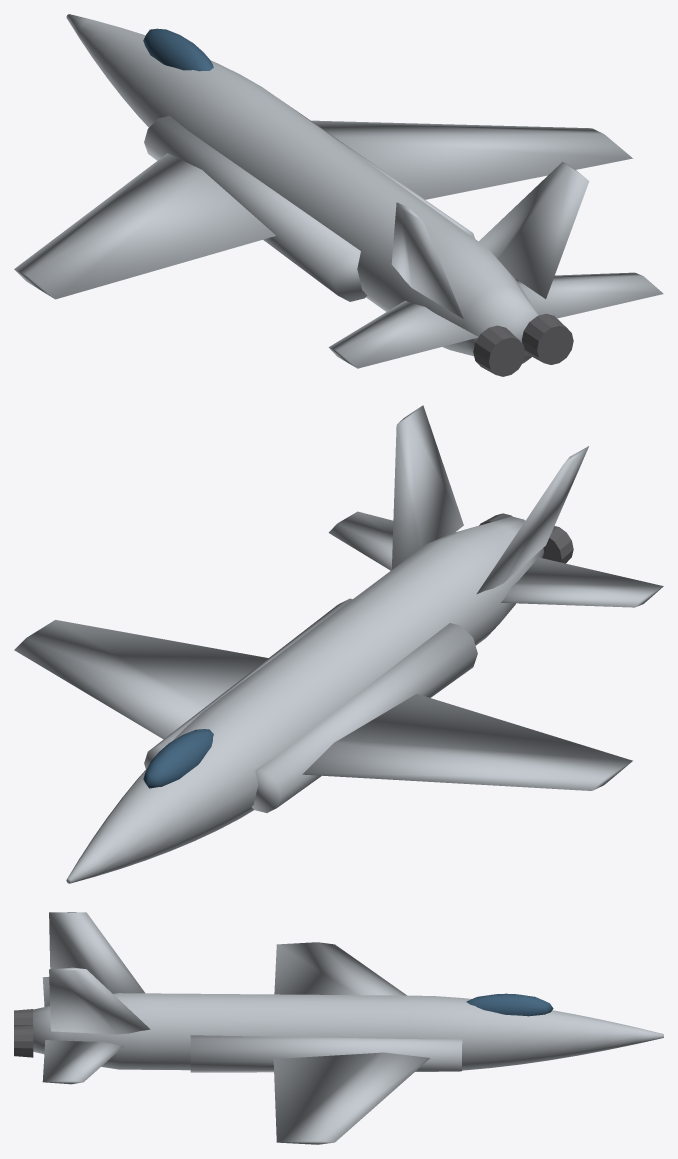
3 renders of one model, top to bottom at view 1: azimuth 30°, elevation 25°; view 2: azimuth 150°, elevation 25°; view 3: azimuth 270°, elevation 25°, orthographic. The views are drawn at different scales.
Visible parts, largest first — view 1: Body, Detail, Canopy; view 2: Body, Canopy, Detail; view 3: Body, Canopy, Detail.
Boxes of the visible parts, box(x1,y1,x2,y2) form: Body: box(14, 14, 663, 368); Detail: box(473, 313, 573, 376); Canopy: box(143, 28, 213, 71); Body: box(14, 405, 663, 883); Canopy: box(143, 729, 213, 788); Detail: box(479, 513, 573, 563); Body: box(33, 912, 663, 1144); Canopy: box(466, 993, 553, 1016); Detail: box(14, 1009, 33, 1057).
Size of the model in its own units: 1360 by 411 by 1885.
